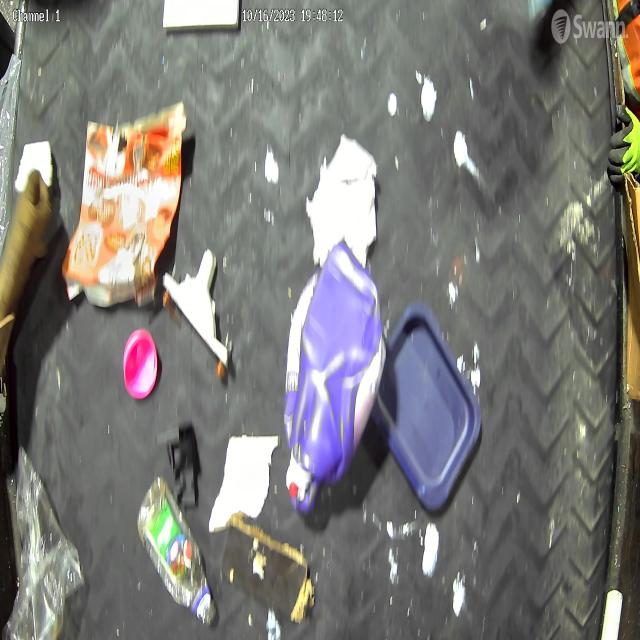non_white_jug: (283, 235, 385, 511)
plastic_bottle: (137, 474, 217, 624)
